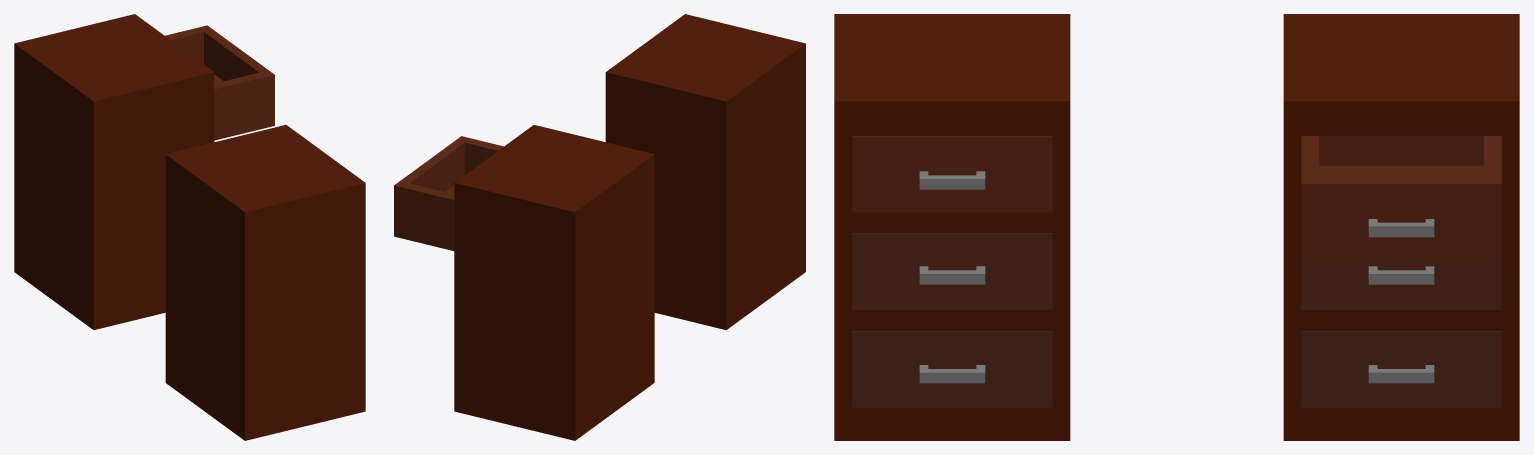
The model's file is drawer.fbx.
3 views of the same model, side by side, from view 1: azimuth 30°, elevation 25°; view 2: azimuth 150°, elevation 25°; view 3: azimuth 270°, elevation 25° (orthographic). The views are drawn at different scales.
Parts seen in each view (by area): view 1: Drawer, Drawer.001, Handle2.001; view 2: Drawer.001, Drawer, Handle2.001; view 3: Drawer, Drawer.001, Handle2.001, Handle1, Handle2, Handle3, Handle3.001, Handle1.001.
Part boxes in pixels (x1,y1,x2,y2): Drawer: (165, 125, 365, 440); Drawer.001: (14, 14, 214, 329); Handle2.001: (165, 25, 274, 140); Drawer.001: (454, 125, 654, 440); Drawer: (605, 14, 805, 330); Handle2.001: (394, 136, 503, 250); Drawer: (834, 14, 1070, 440); Drawer.001: (1283, 14, 1519, 440); Handle2.001: (1301, 136, 1501, 259); Handle1: (852, 233, 1052, 309); Handle2: (852, 136, 1052, 212); Handle3: (852, 331, 1052, 407); Handle3.001: (1301, 331, 1501, 407); Handle1.001: (1301, 260, 1501, 309).
Bounding box in the file's own units: 338 × 374 × 684.
